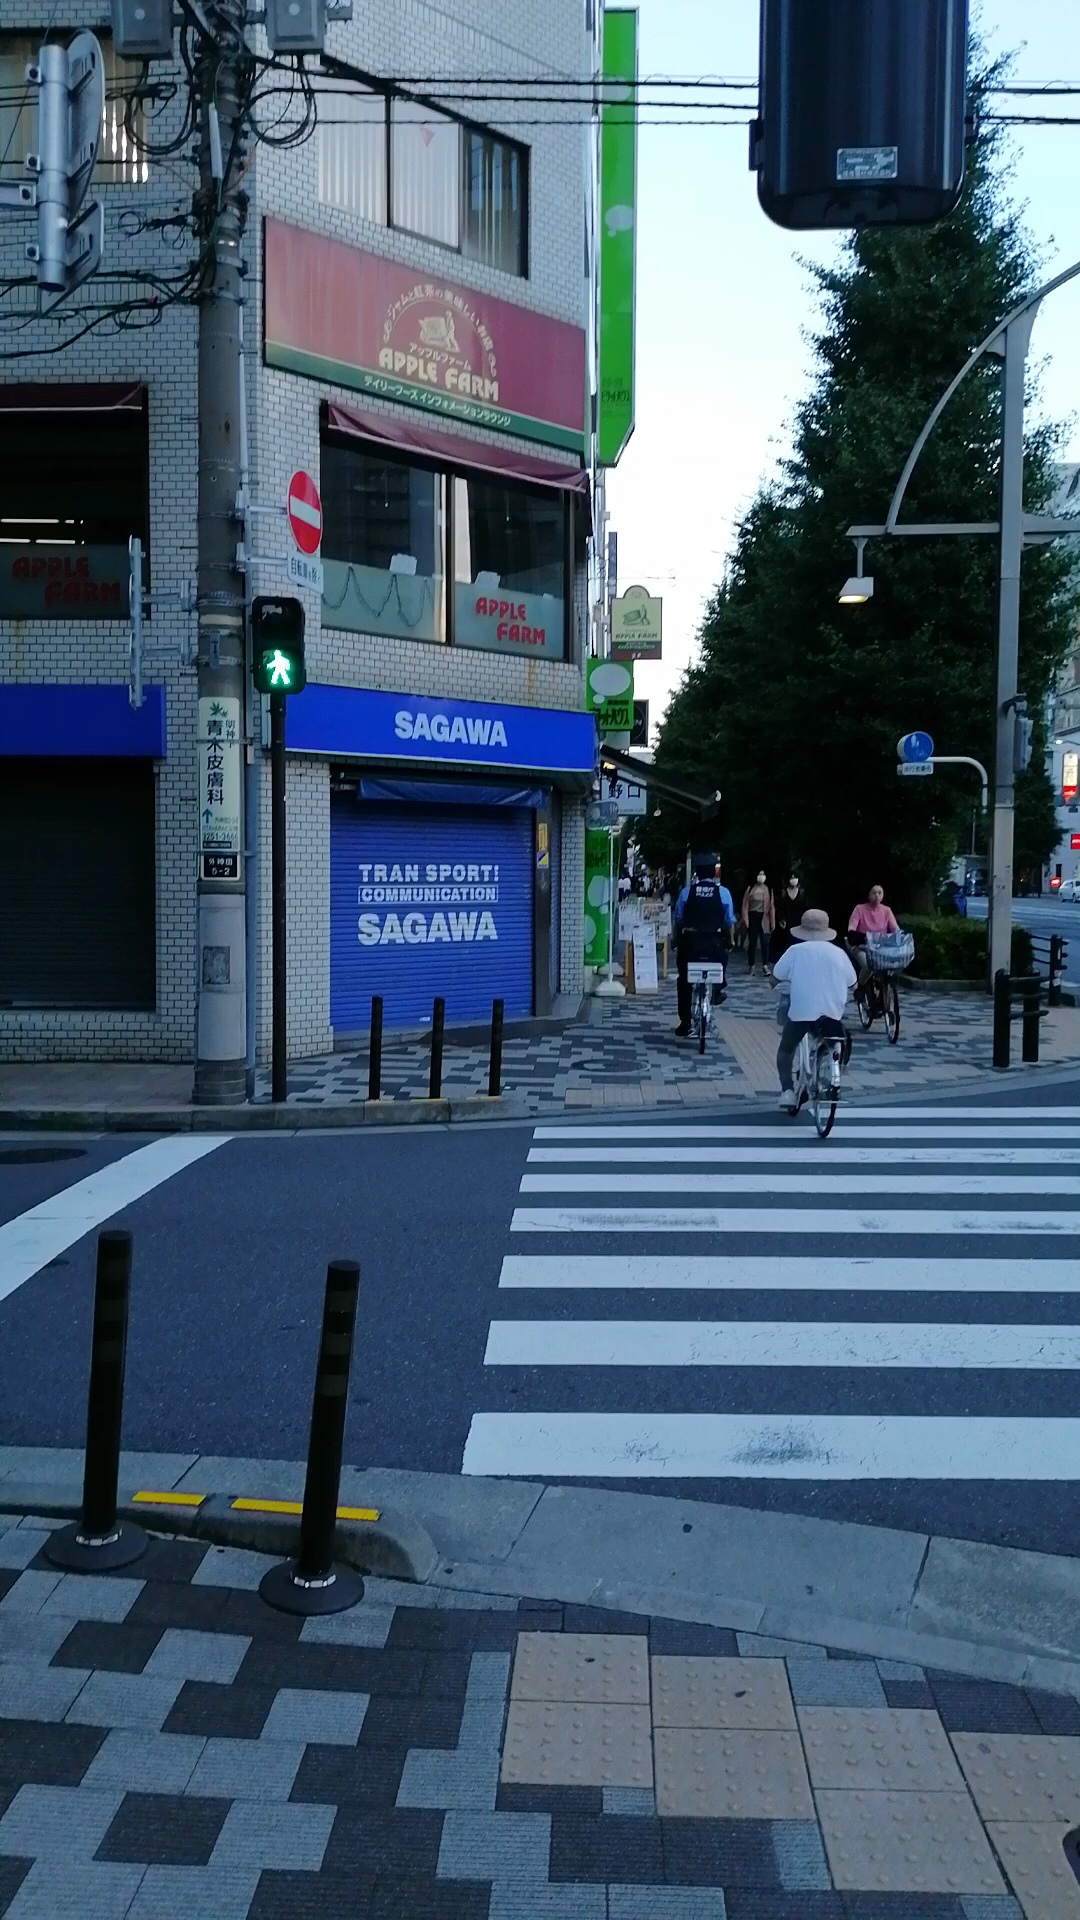green: (247, 597, 309, 694)
